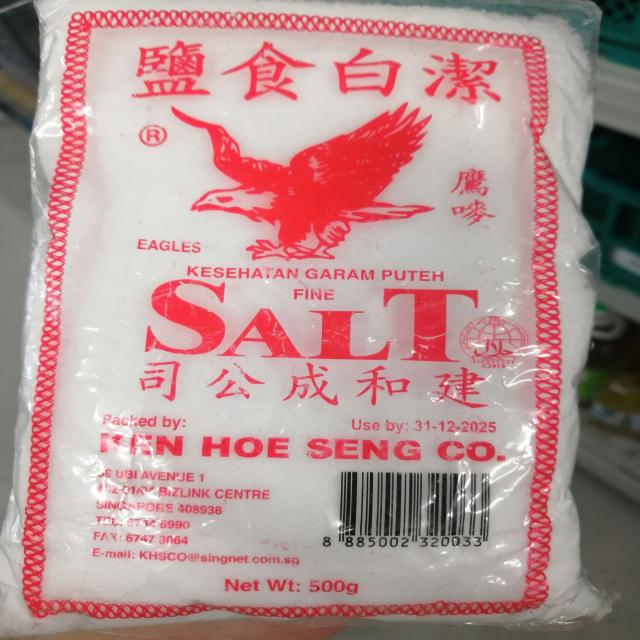object_name: (39, 6, 573, 615)
